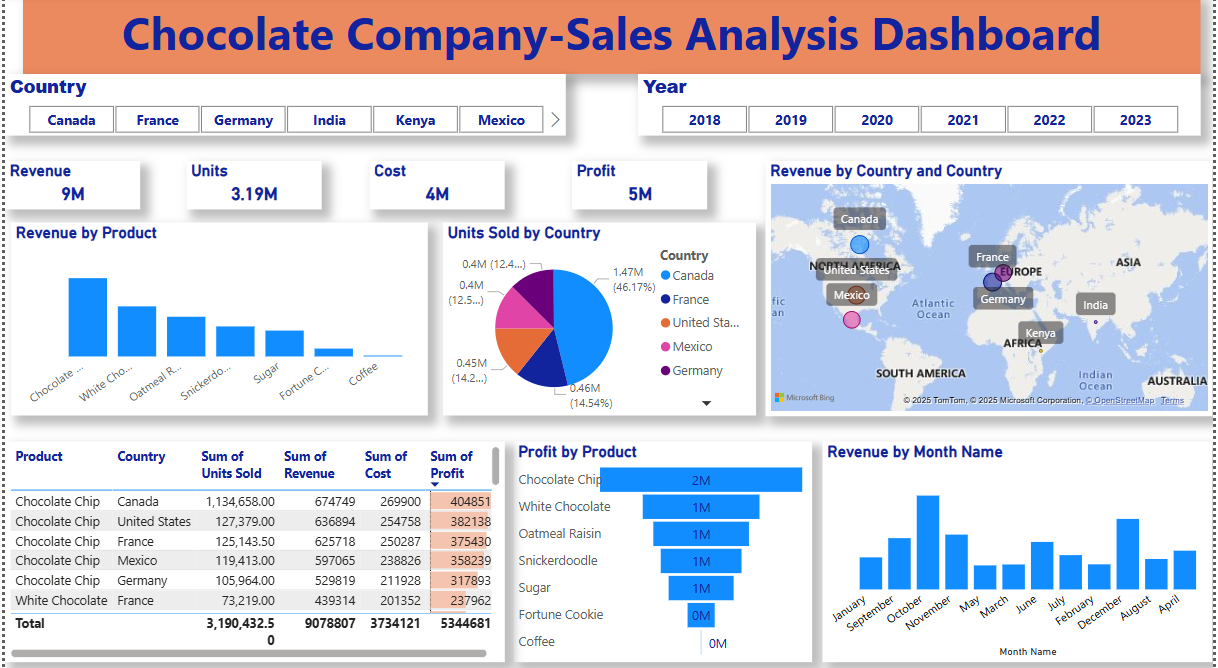

Layout of this report page (visuals, bound fields, positions):
{"tool":"powerbi","page":{"name":"Dashboard","canvas":[1280,720],"ordinal":0},"visuals":[{"type":"textbox","box":[19.1,0,1248.6,82.7],"z":1000},{"type":"card","title":"Revenue","fields":{"Values":["Sum(Sheet1.Revenue)"]},"box":[0,175.6,143.4,51.2],"z":2000},{"type":"card","title":"Units","fields":{"Values":["Sum(Sheet1.Units Sold)"]},"box":[193.2,175.6,143.4,51.2],"z":3000},{"type":"card","title":"Cost","fields":{"Values":["Sum(Sheet1.Cost)"]},"box":[386.3,175.6,143.4,51.2],"z":4000},{"type":"card","title":"Profit","fields":{"Values":["Sum(Sheet1.Profit)"]},"box":[601.5,175.6,143.4,51.2],"z":5000},{"type":"columnChart","title":"Revenue by Product","fields":{"Y":["Sum(Sheet1.Revenue)"],"Category":["Sheet1.Product"]},"box":[5.9,240,442,204.9],"z":6000},{"type":"pieChart","title":"Units Sold by Country","fields":{"Y":["Sum(Sheet1.Units Sold)"],"Category":["Sheet1.Country"]},"box":[463.9,240,332.2,204.9],"z":7000},{"type":"map","title":"Revenue by Country and Country","fields":{"Size":["Sum(Sheet1.Revenue)"],"Category":["Sheet1.Country"],"Series":["Sheet1.Country"]},"box":[806.4,175,474,270.4],"z":8000},{"type":"funnel","title":"Profit by Product","fields":{"Category":["Sheet1.Product"],"Y":["Sum(Sheet1.Profit)"]},"box":[539.2,472.4,316.5,233.8],"z":9000},{"type":"tableEx","fields":{"Values":["Sheet1.Product","Sheet1.Country","Sum(Sheet1.Units Sold)","Sum(Sheet1.Revenue)","Sum(Sheet1.Cost)","Sum(Sheet1.Profit)"]},"box":[0,472.7,529.8,234.1],"z":10000},{"type":"columnChart","title":"Revenue by Month Name","fields":{"Category":["Sheet1.Month Name"],"Y":["Sum(Sheet1.Revenue)"]},"box":[866.9,472.4,413.6,233.8],"z":11000},{"type":"slicer","title":"Country","fields":{"Values":["Sheet1.Country"]},"box":[0,82.7,594.9,65.2],"z":12000},{"type":"slicer","title":"Year","fields":{"Values":["Sheet1.Year"]},"box":[671.2,82.7,596.5,65.2],"z":13000}]}

Visuals, with their boxes in screenshot pixels (x1, y1, x2, y2), scaled from the page's 1280x720 canvas onto the 1218x668 screenshot:
textbox: pyautogui.locateOnScreen(18, 0, 1206, 77)
"Revenue" card: pyautogui.locateOnScreen(0, 163, 136, 210)
"Units" card: pyautogui.locateOnScreen(184, 163, 320, 210)
"Cost" card: pyautogui.locateOnScreen(368, 163, 504, 210)
"Profit" card: pyautogui.locateOnScreen(572, 163, 709, 210)
"Revenue by Product" columnChart: pyautogui.locateOnScreen(6, 223, 426, 413)
"Units Sold by Country" pieChart: pyautogui.locateOnScreen(441, 223, 758, 413)
"Revenue by Country and Country" map: pyautogui.locateOnScreen(767, 162, 1217, 413)
"Profit by Product" funnel: pyautogui.locateOnScreen(513, 438, 814, 655)
tableEx - Sheet1.Product x Sheet1.Country: pyautogui.locateOnScreen(0, 439, 504, 656)
"Revenue by Month Name" columnChart: pyautogui.locateOnScreen(825, 438, 1217, 655)
"Country" slicer: pyautogui.locateOnScreen(0, 77, 566, 137)
"Year" slicer: pyautogui.locateOnScreen(639, 77, 1206, 137)
